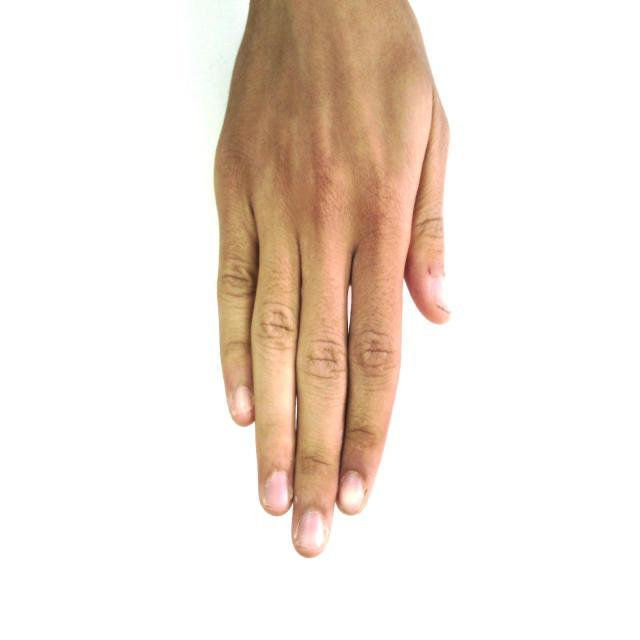Fingernail: (339, 472, 364, 513), (298, 511, 325, 548), (266, 471, 290, 509), (430, 271, 448, 311), (233, 388, 251, 416)
